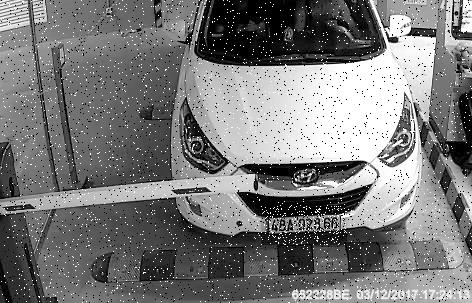License-plate: (262, 206, 348, 246)
